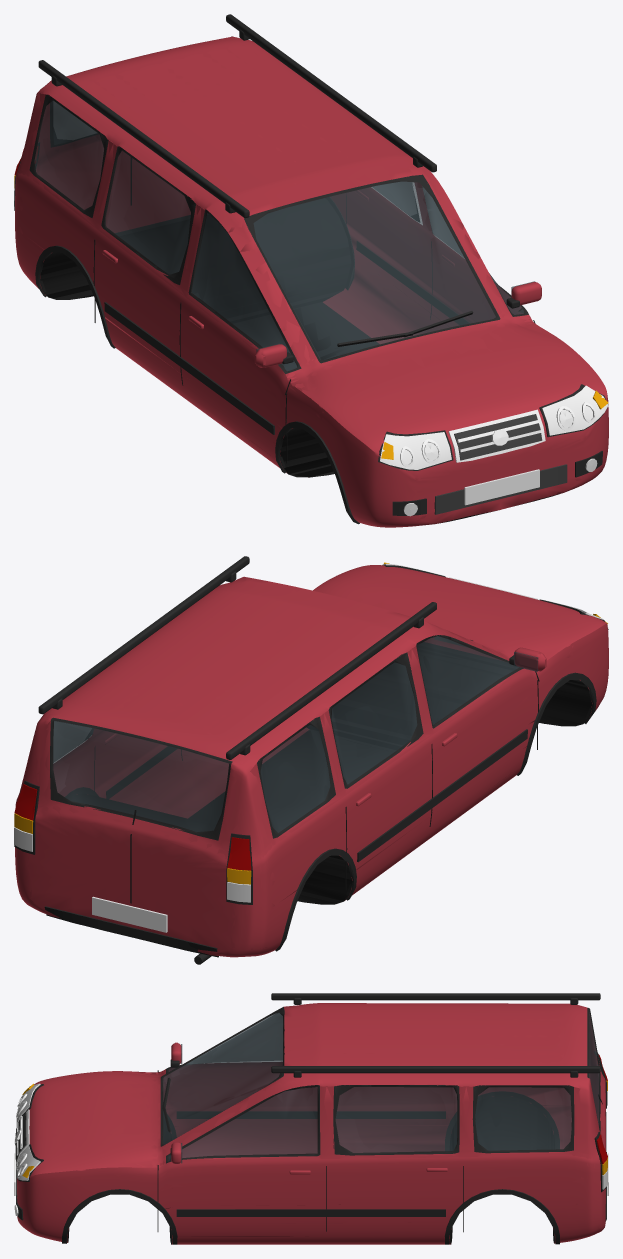
The model's file is largus.glb.
The picture shows the model from 3 angles, top to bottom: view 1: azimuth 30°, elevation 25°; view 2: azimuth 150°, elevation 25°; view 3: azimuth 270°, elevation 25°; orthographic projection. The views are drawn at different scales.
Visible parts, largest first — view 1: LOD_hi, LOD0; view 2: LOD_hi, LOD0; view 3: LOD_hi, LOD0.
Boxes of the visible parts, x1,y1,x2,y2 form: LOD_hi: [14, 14, 608, 527]; LOD0: [14, 31, 608, 523]; LOD_hi: [14, 556, 608, 959]; LOD0: [14, 562, 608, 964]; LOD_hi: [14, 993, 608, 1244]; LOD0: [15, 996, 607, 1243].
Size of what is drawn, in the model's own units: 1.99 by 1.49 by 4.52.
